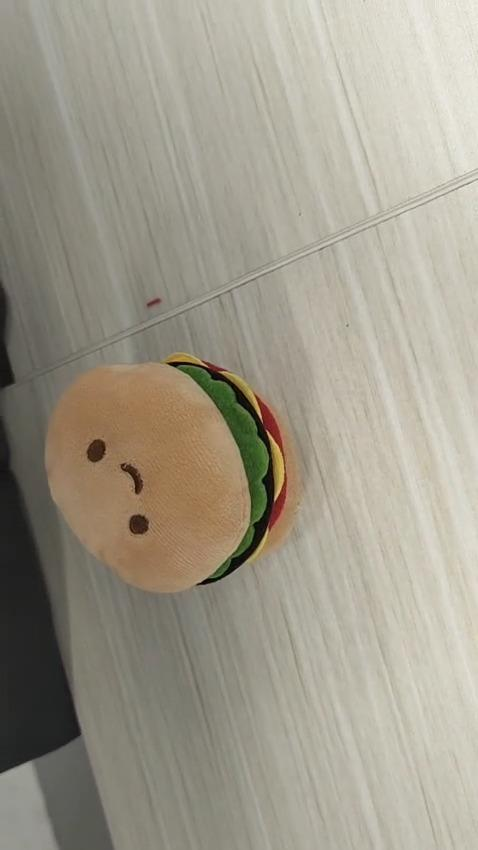hamburger: (44, 349, 309, 592)
